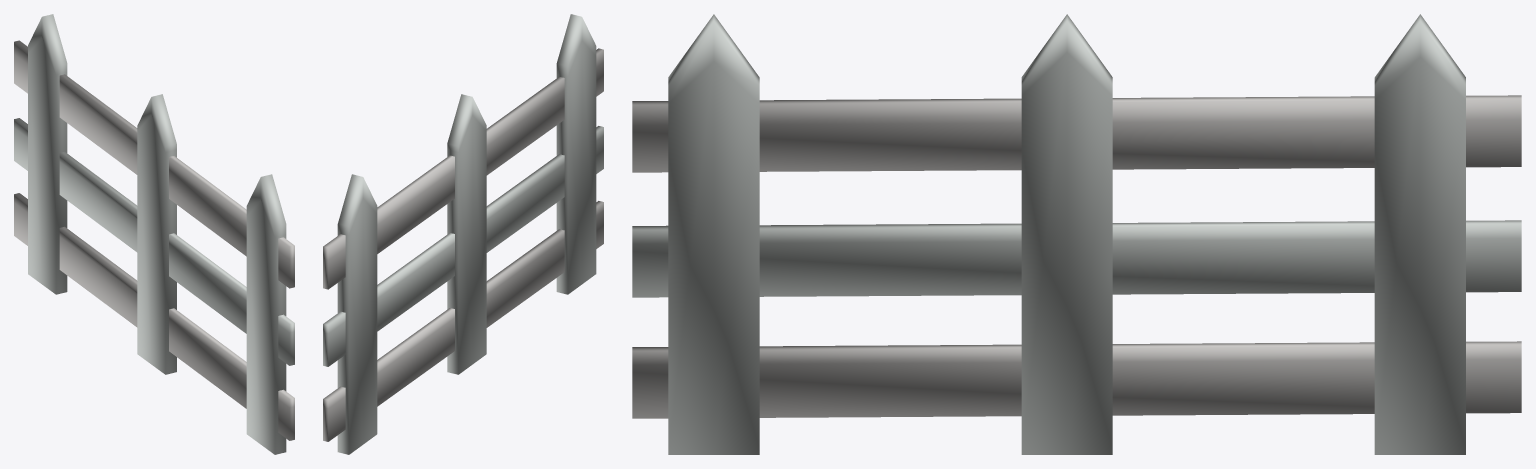
Rendered from FencePicketMedium_02.glb.
3 views of the same model, side by side, from view 1: azimuth 30°, elevation 25°; view 2: azimuth 150°, elevation 25°; view 3: azimuth 270°, elevation 25° (orthographic). The views are drawn at different scales.
Parts seen in each view (by area): view 1: FencePicketMedium_02; view 2: FencePicketMedium_02; view 3: FencePicketMedium_02.
Part boxes in pixels (left/top/right/bottom): FencePicketMedium_02: left=14, top=14, right=294, bottom=454; FencePicketMedium_02: left=323, top=14, right=603, bottom=454; FencePicketMedium_02: left=632, top=14, right=1521, bottom=454.
Size of what is drawn, in the model's own units: 0.0534 by 1.21 by 2.25.
Materials: 1 (1 with a texture image).
